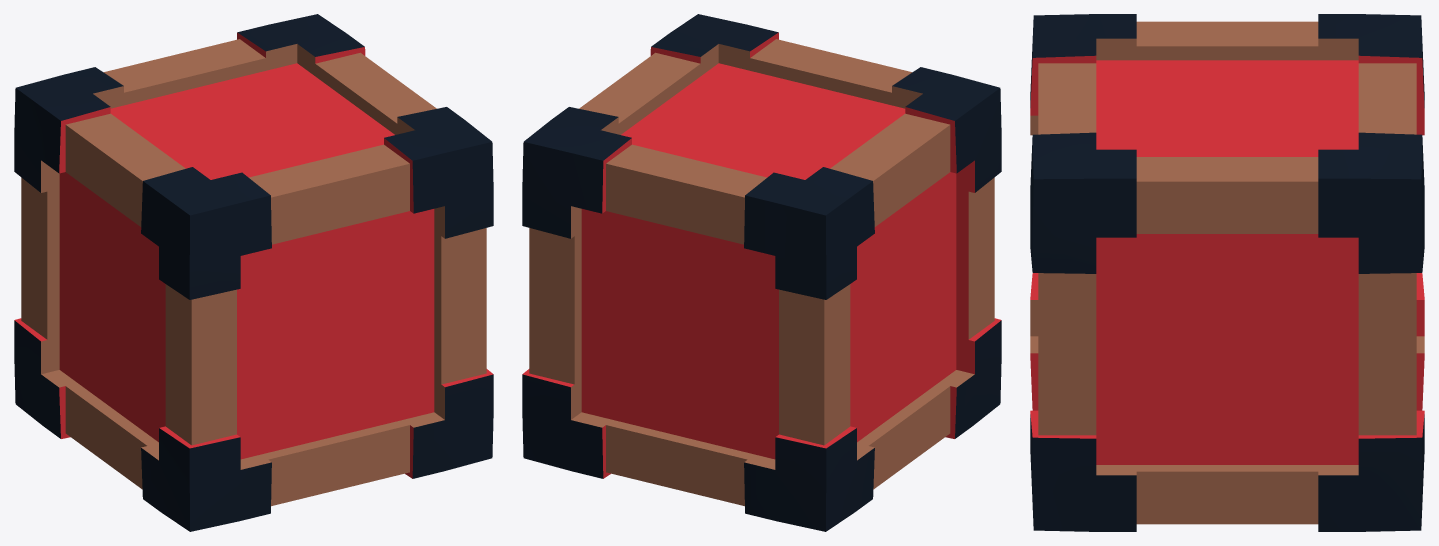
File: crate_explode.gltf
3 views of the same model, side by side, from view 1: azimuth 30°, elevation 25°; view 2: azimuth 150°, elevation 25°; view 3: azimuth 270°, elevation 25° (orthographic). The views are drawn at different scales.
Visible parts, largest first — view 1: crate2.004; view 2: crate2.004; view 3: crate2.004.
Part boxes in pixels (left/top/right/bottom): crate2.004: left=14, top=14, right=493, bottom=531; crate2.004: left=522, top=14, right=1001, bottom=531; crate2.004: left=1030, top=14, right=1424, bottom=531.
Size of the model in its own units: 2 by 2 by 2.
